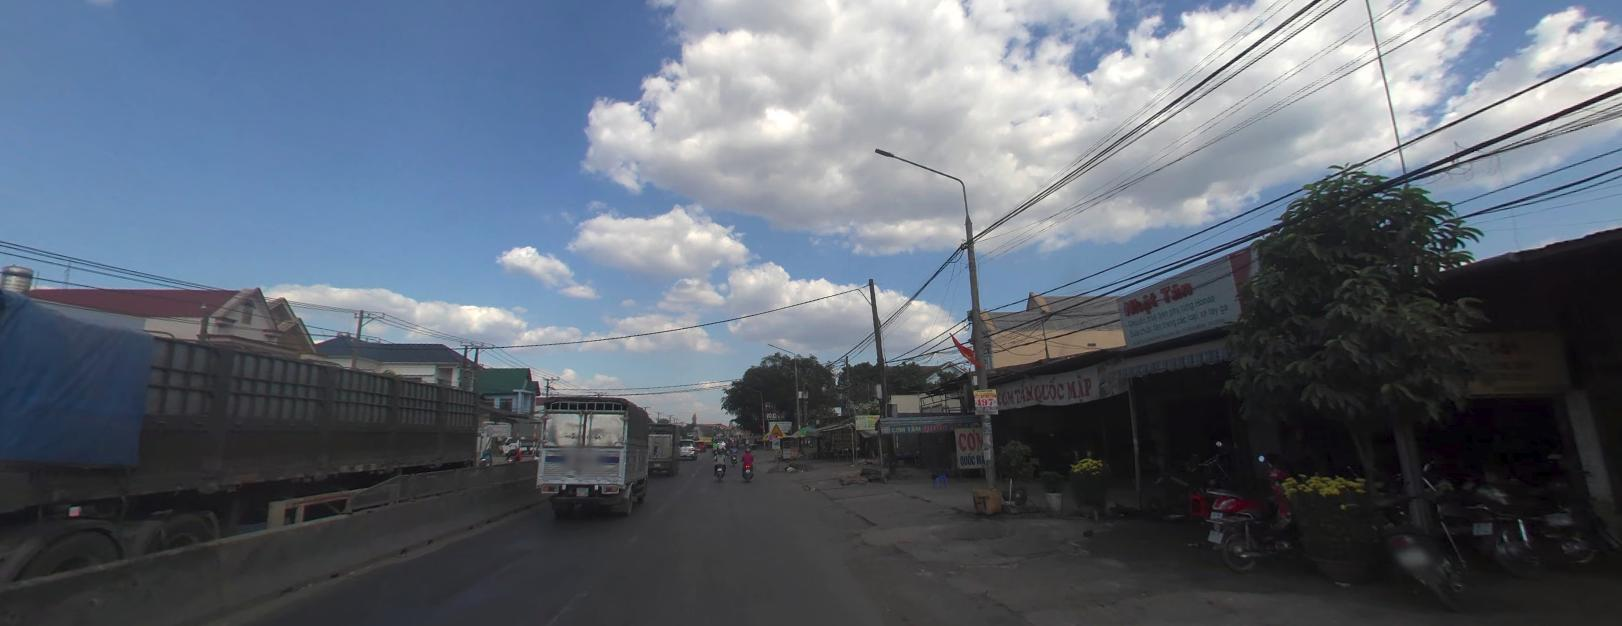Nguy hiem: (770, 422, 783, 434)
